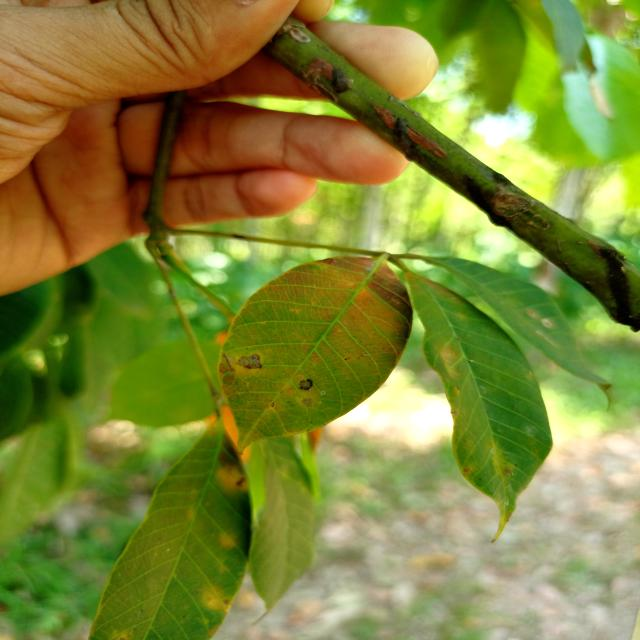Colletotrichum: (298, 378, 313, 390)
